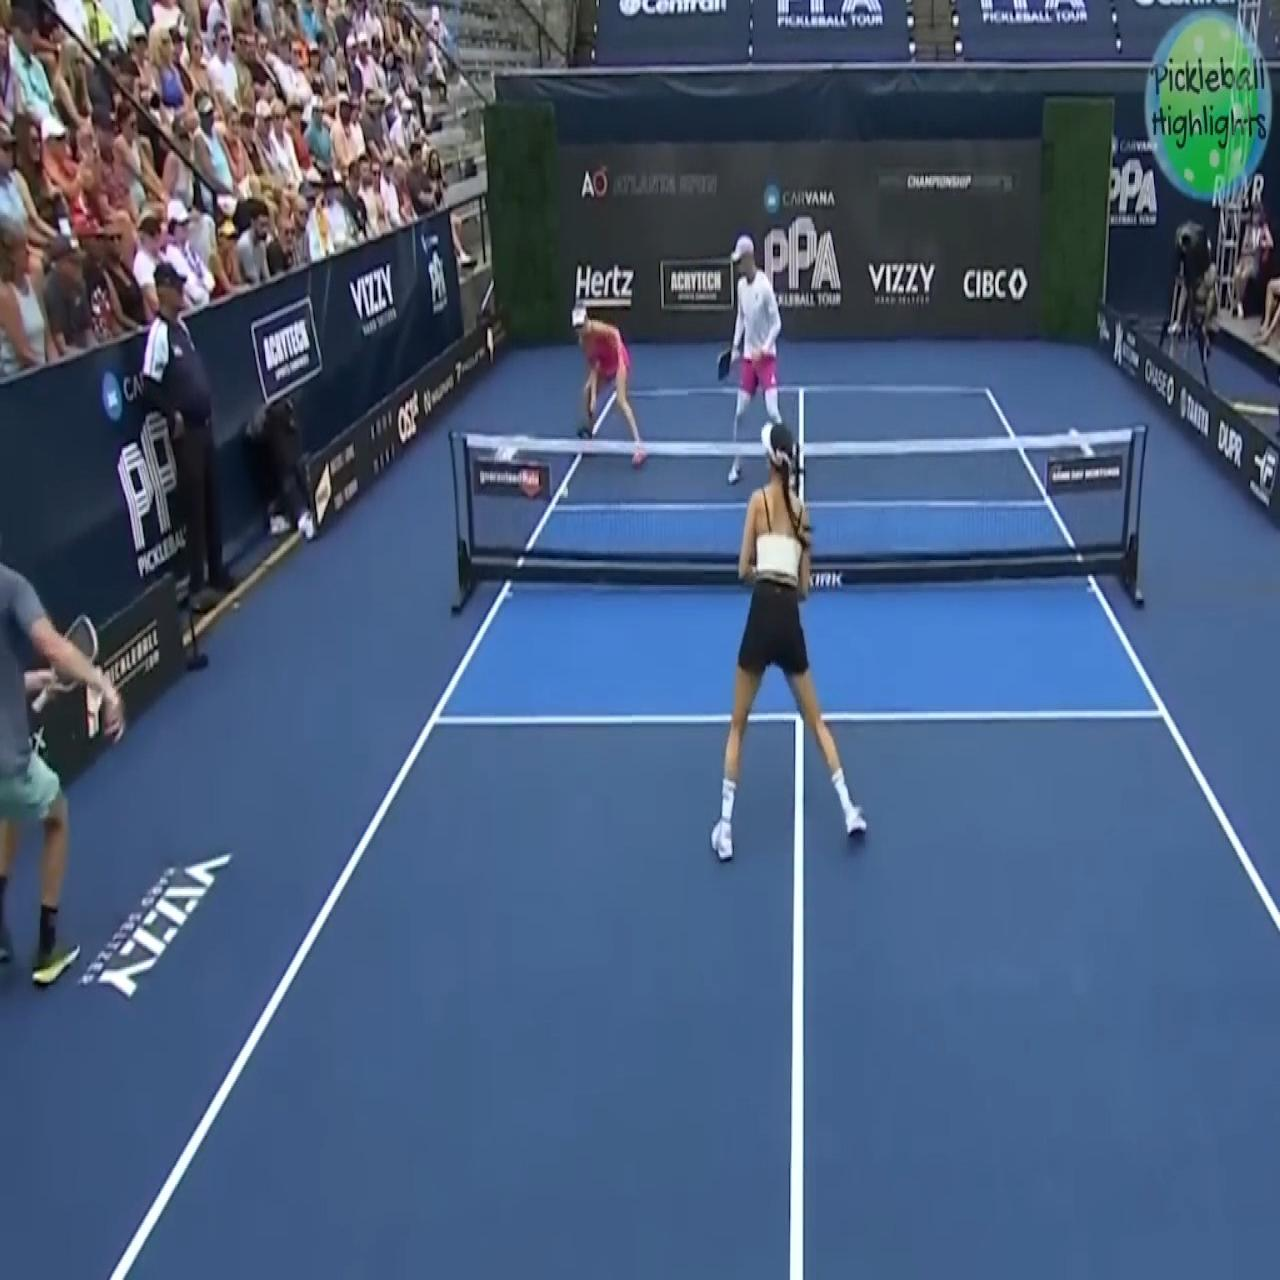Pickleball: (560, 485, 570, 501)
